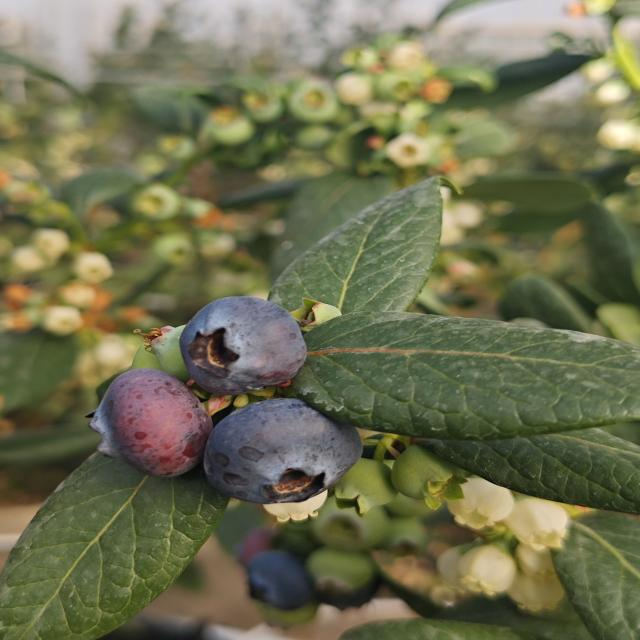ripe: (200, 396, 364, 506), (84, 367, 214, 479), (177, 294, 310, 397), (242, 543, 320, 611)
